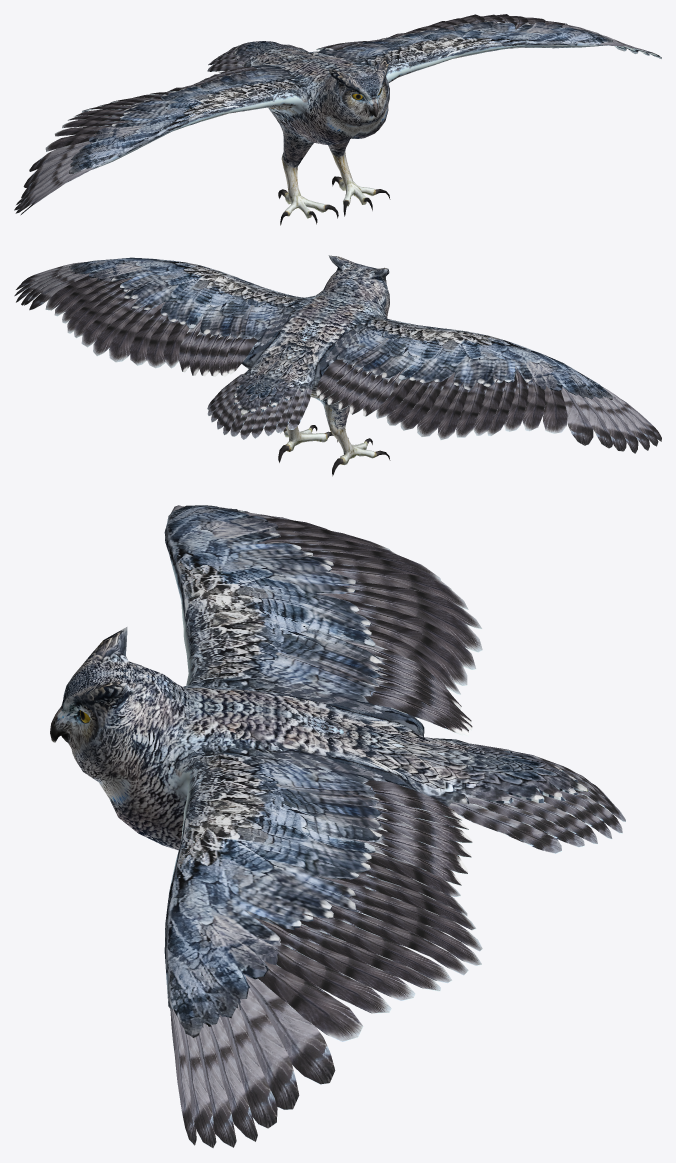
The model's file is asset.glb.
3 views of the same model, one above another, from view 1: azimuth 30°, elevation 25°; view 2: azimuth 150°, elevation 25°; view 3: azimuth 270°, elevation 25° (orthographic). The views are drawn at different scales.
Visible parts, largest first — view 1: sm_1_0_0_0; view 2: sm_1_0_0_0; view 3: sm_1_0_0_0.
Boxes of the visible parts, bbox=[...] form: sm_1_0_0_0: bbox=[14, 14, 661, 225]; sm_1_0_0_0: bbox=[14, 255, 661, 476]; sm_1_0_0_0: bbox=[50, 505, 625, 1148].
Size of the model in its own units: 2.29 by 0.5791 by 0.8894.
1 material, 1 textured.
